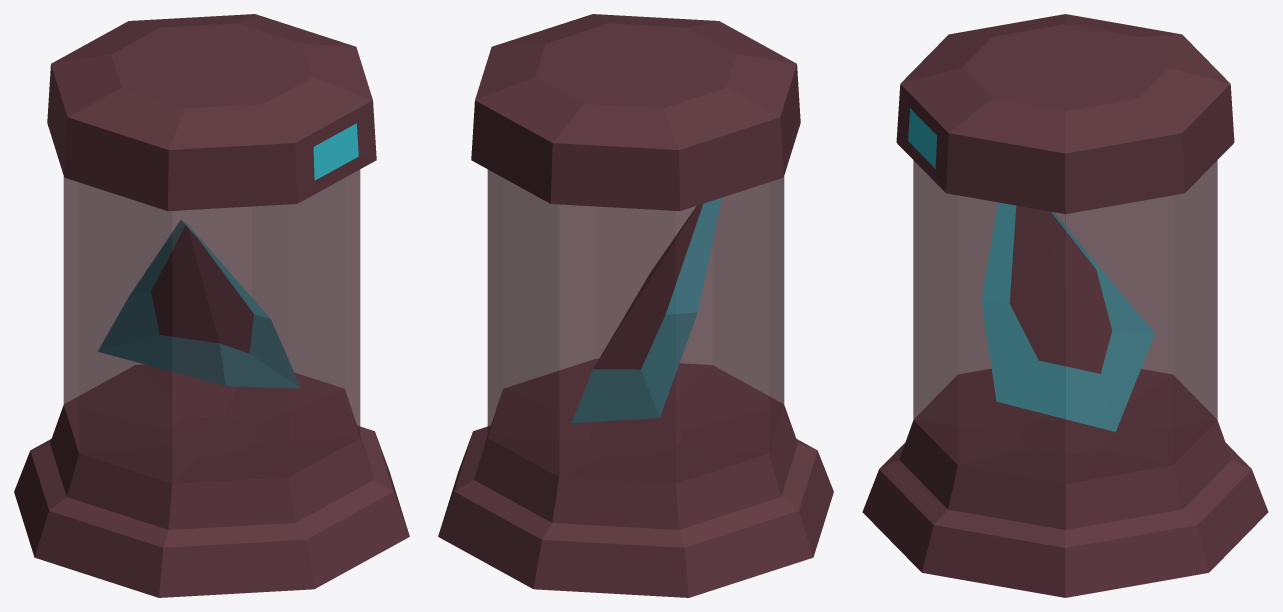
Rendered from scifi-tube-specimen-small-leaf.fbx.
3 views of the same model, side by side, from view 1: azimuth 30°, elevation 25°; view 2: azimuth 150°, elevation 25°; view 3: azimuth 270°, elevation 25° (orthographic).
Parts seen in each view (by area): view 1: scifi-tube-specimen-small-leaf; view 2: scifi-tube-specimen-small-leaf; view 3: scifi-tube-specimen-small-leaf.
Part boxes in pixels (<box>): scifi-tube-specimen-small-leaf: <box>14,14,409,597</box>; scifi-tube-specimen-small-leaf: <box>438,14,833,597</box>; scifi-tube-specimen-small-leaf: <box>862,14,1268,597</box>.
Size of the model in its own units: 0.4517 by 0.5452 by 0.4517.
